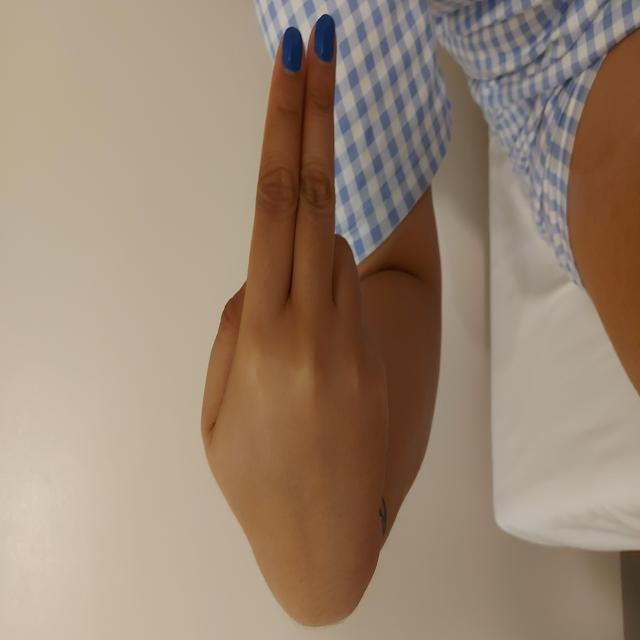H: (14, 200, 626, 390)
